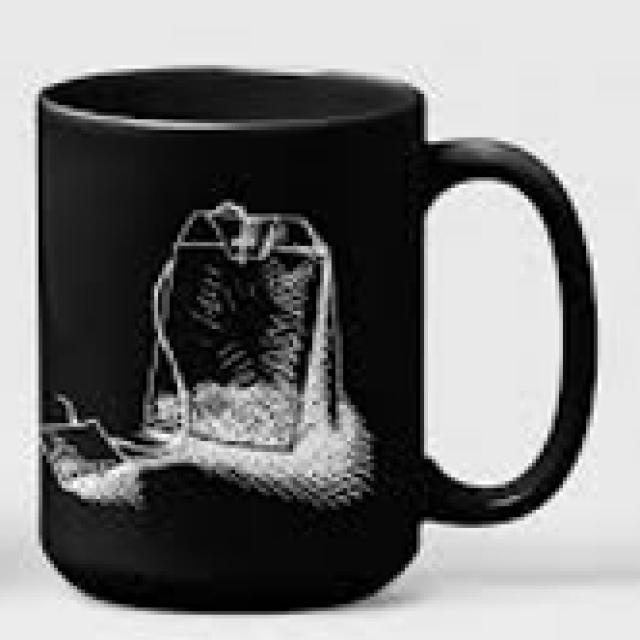taza: (34, 65, 604, 611)
